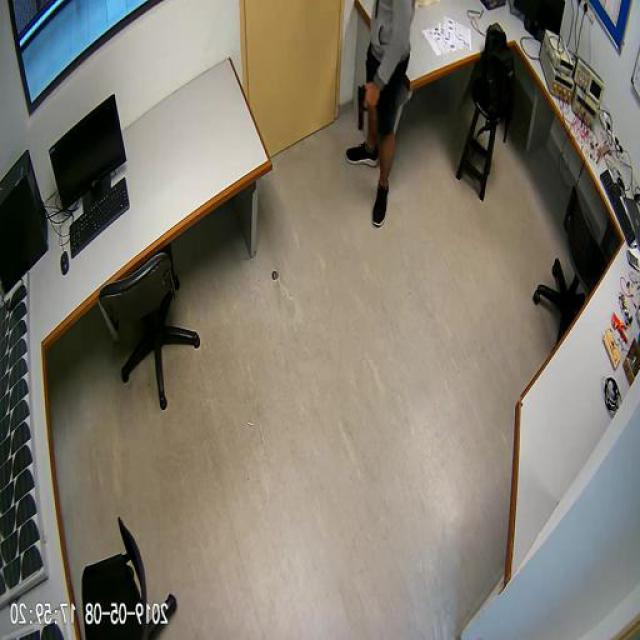Gun: (359, 82, 375, 130)
